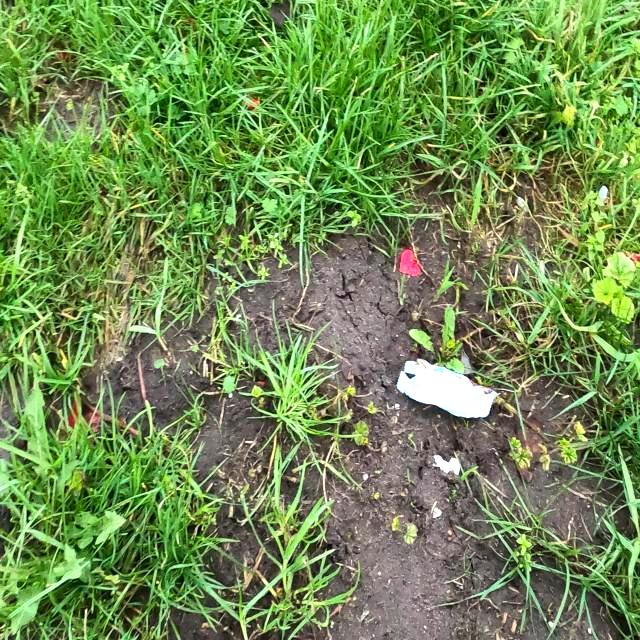Plastic: (395, 358, 501, 418)
